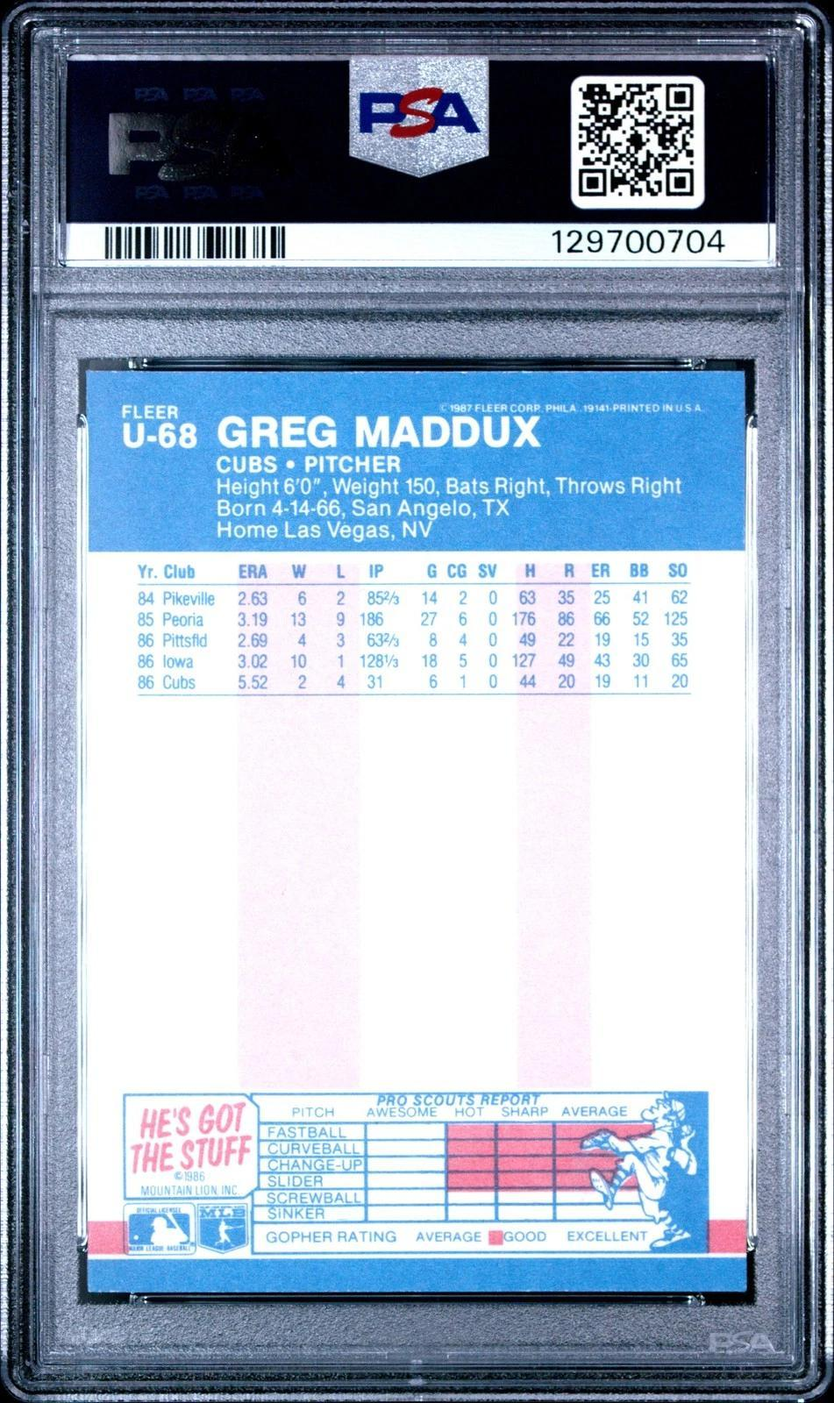card-2UtV: (85, 369, 747, 1293)
